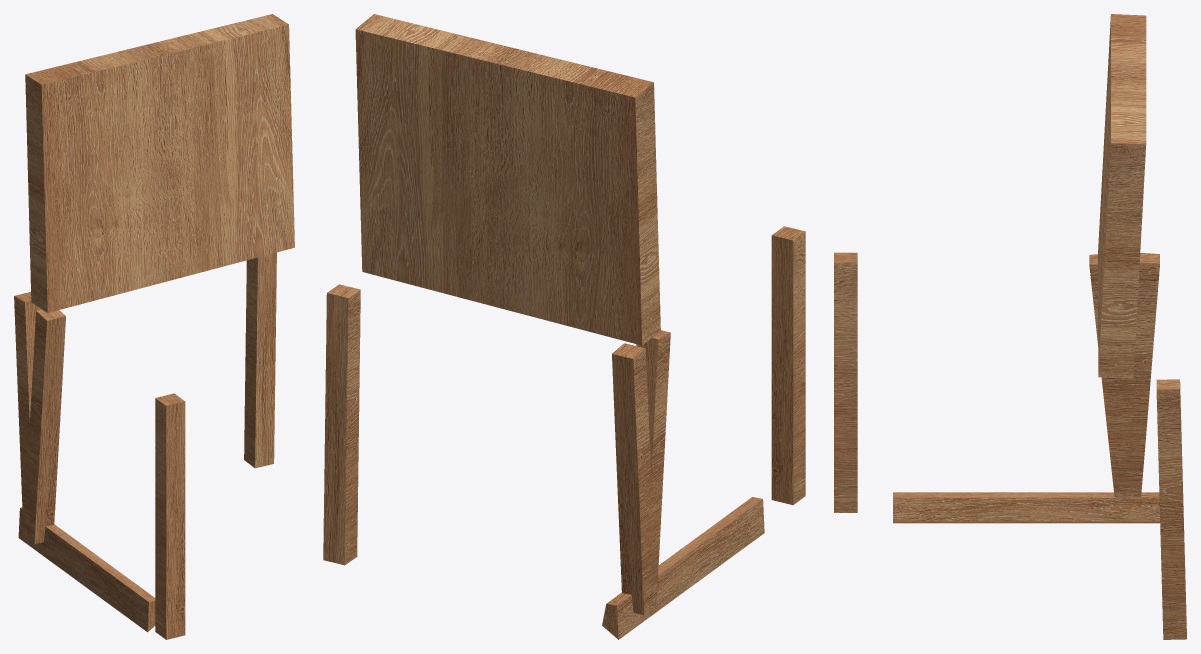
The model's file is 2360_deepcad.glb.
3 renders of one model, left to right at view 1: azimuth 30°, elevation 25°; view 2: azimuth 150°, elevation 25°; view 3: azimuth 270°, elevation 25°, orthographic. The views are drawn at different scales.
Visible parts, largest first — view 1: test_cmd_2360_pred; view 2: test_cmd_2360_pred; view 3: test_cmd_2360_pred.
Part boxes in pixels (box(x1,y1,x2,y2)): test_cmd_2360_pred: box(14, 14, 294, 639); test_cmd_2360_pred: box(323, 14, 805, 639); test_cmd_2360_pred: box(834, 14, 1186, 639).
Size of the model in its own units: 0.5776 by 1 by 0.6301.
1 material, 1 textured.
